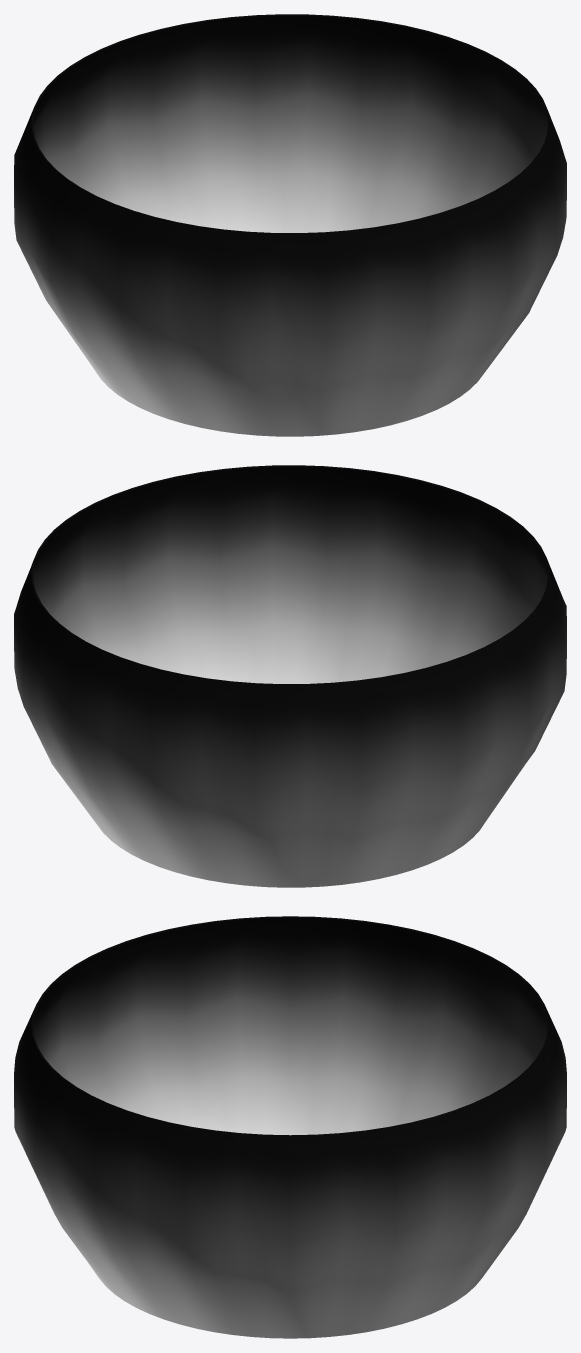
Rendered from Pickup_Mesh.fbx.
3 views of the same model, one above another, from view 1: azimuth 30°, elevation 25°; view 2: azimuth 150°, elevation 25°; view 3: azimuth 270°, elevation 25° (orthographic).
Parts seen in each view (by area): view 1: Cylinder; view 2: Cylinder; view 3: Cylinder.
Boxes of the visible parts, x1=… form: Cylinder: x1=14, y1=14, x2=566, y2=436; Cylinder: x1=14, y1=465, x2=566, y2=887; Cylinder: x1=14, y1=916, x2=566, y2=1338.
Size of the model in its own units: 138 by 63.1 by 138.
